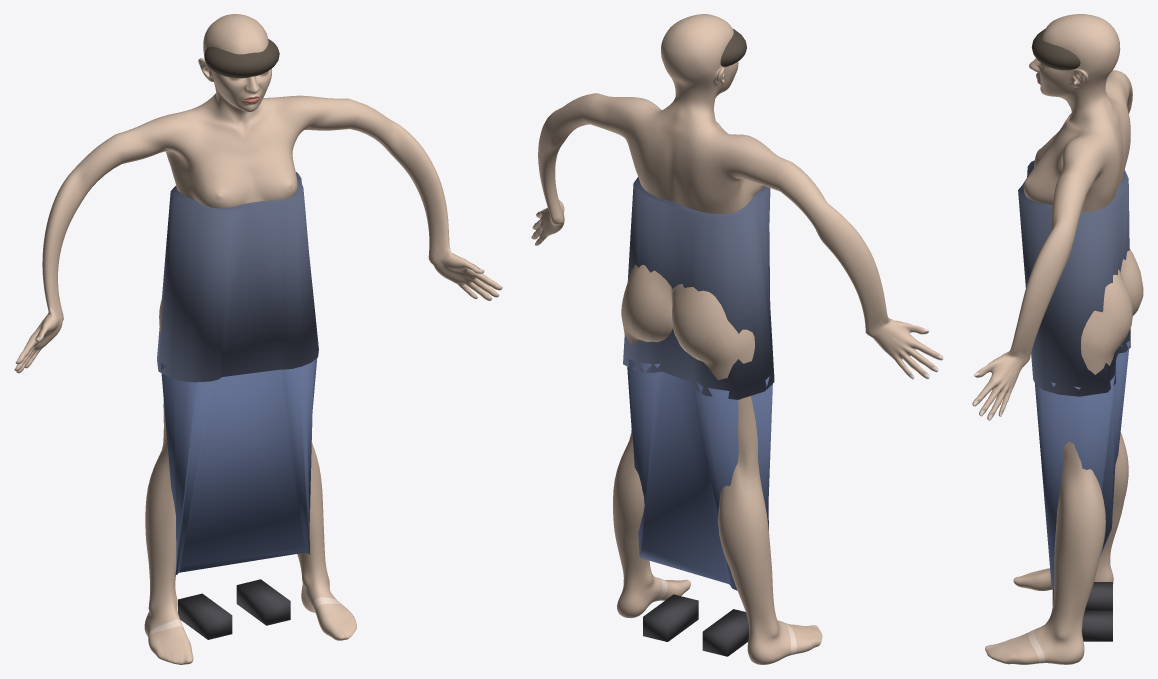
File: hm_ped_noah_v14.glb
The picture shows the model from 3 angles, left to right: view 1: azimuth 30°, elevation 25°; view 2: azimuth 150°, elevation 25°; view 3: azimuth 270°, elevation 25°; orthographic projection. The views are drawn at different scales.
Visible parts, largest first — view 1: hm_ped_noah; view 2: hm_ped_noah; view 3: hm_ped_noah.
Boxes of the visible parts, <box> form: hm_ped_noah: <box>14,14,502,664</box>; hm_ped_noah: <box>531,14,943,664</box>; hm_ped_noah: <box>972,14,1143,664</box>.
Size of the model in its own units: 1.36 by 1.78 by 0.4524.
